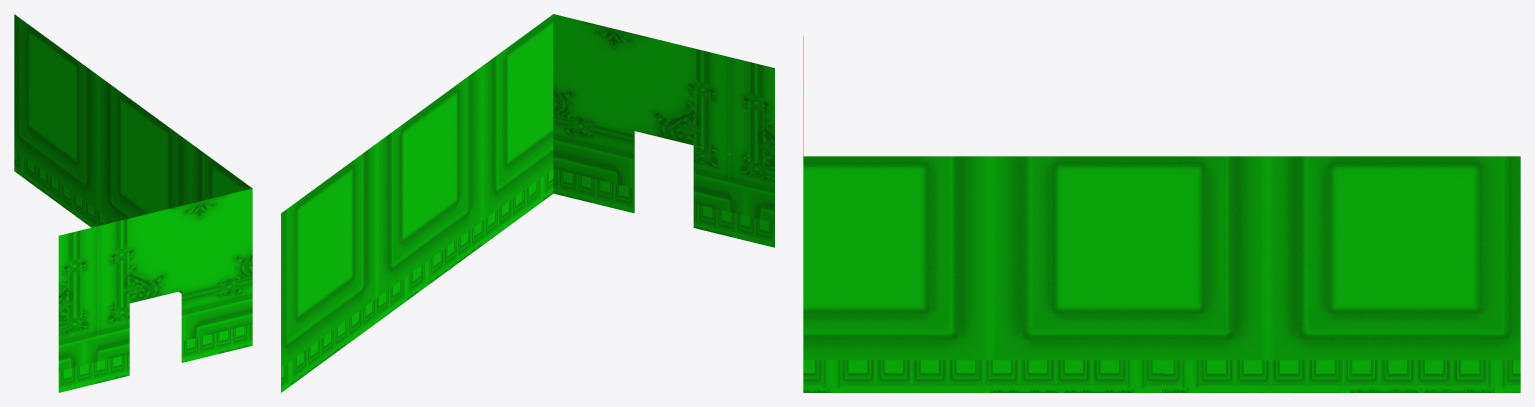
The model's file is 2층 복도벽 4.fbx.
3 renders of one model, left to right at view 1: azimuth 30°, elevation 25°; view 2: azimuth 150°, elevation 25°; view 3: azimuth 270°, elevation 25°, orthographic. The views are drawn at different scales.
Visible parts, largest first — view 1: 2층 복도벽 4; view 2: 2층 복도벽 4; view 3: 2층 복도벽 4.
Part boxes in pixels (x1,y1,x2,y2): 2층 복도벽 4: [14, 14, 252, 392]; 2층 복도벽 4: [281, 14, 774, 392]; 2층 복도벽 4: [803, 36, 1520, 392].
Size of the model in its own units: 252 by 195 by 536.
